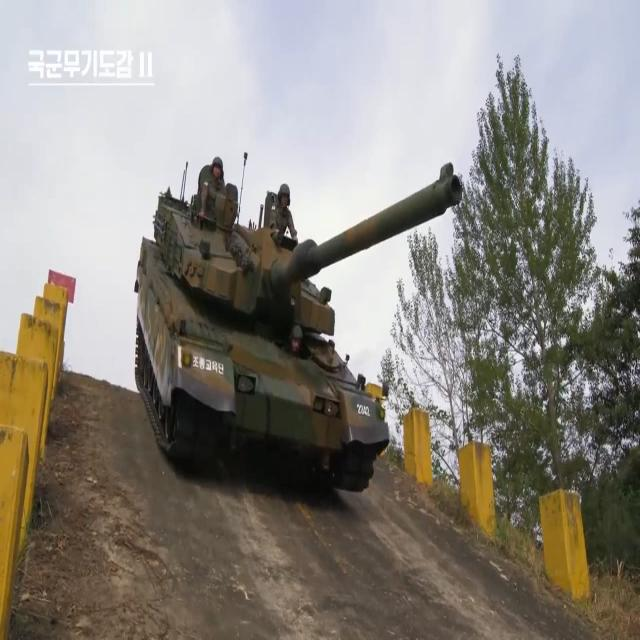korea tank: (133, 148, 463, 494)
